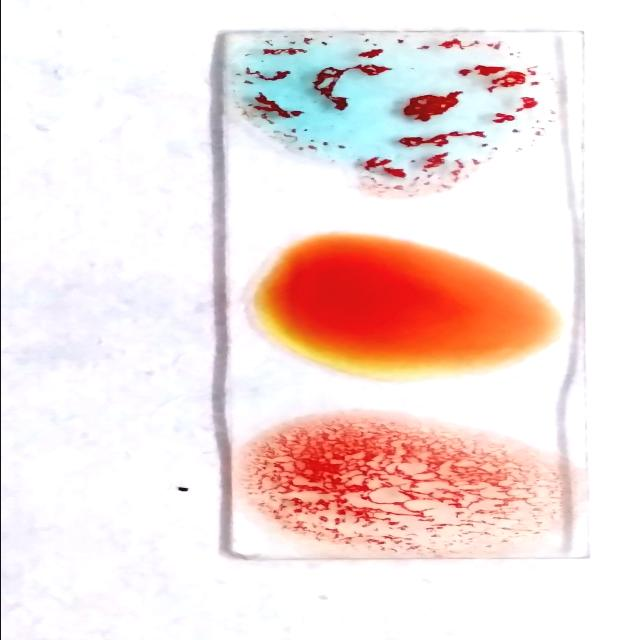A: (244, 34, 544, 168)
D: (243, 428, 556, 550)
